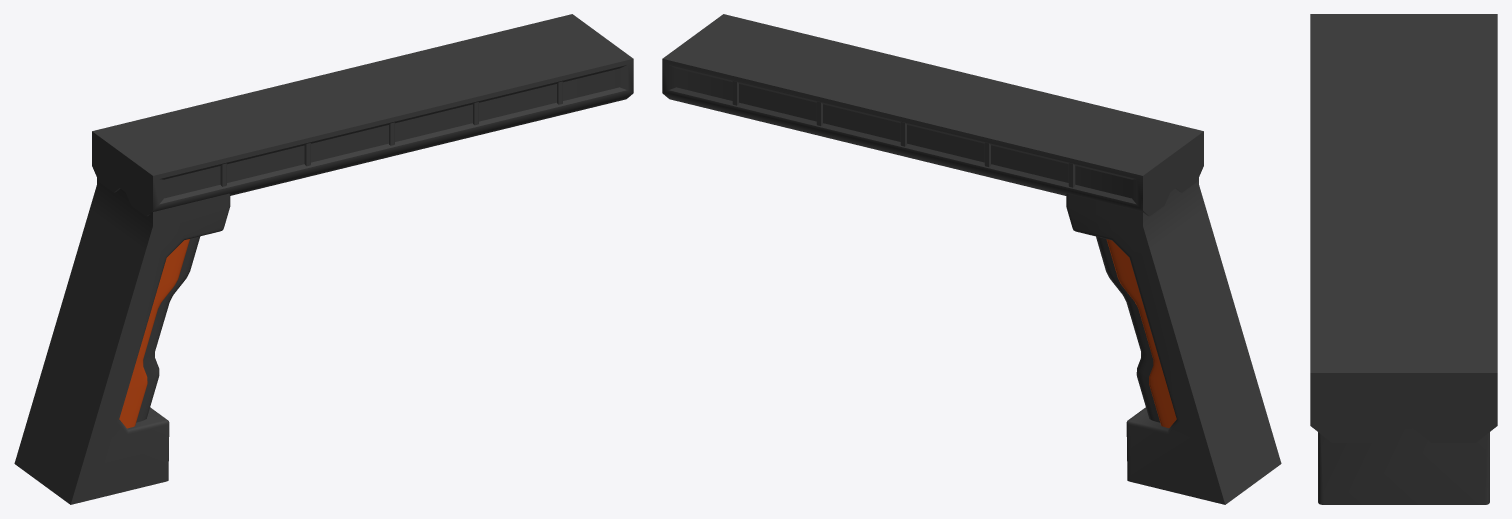
File: SupportPillar.fbx
3 renders of one model, left to right at view 1: azimuth 30°, elevation 25°; view 2: azimuth 150°, elevation 25°; view 3: azimuth 270°, elevation 25°, orthographic. The views are drawn at different scales.
Visible parts, largest first — view 1: SupportArch; view 2: SupportArch; view 3: SupportArch.
Part boxes in pixels (x1,y1,x2,y2): SupportArch: (14,14,633,504); SupportArch: (662,14,1281,504); SupportArch: (1310,14,1497,504).
Size of the model in its own units: 944 by 501 by 178.
